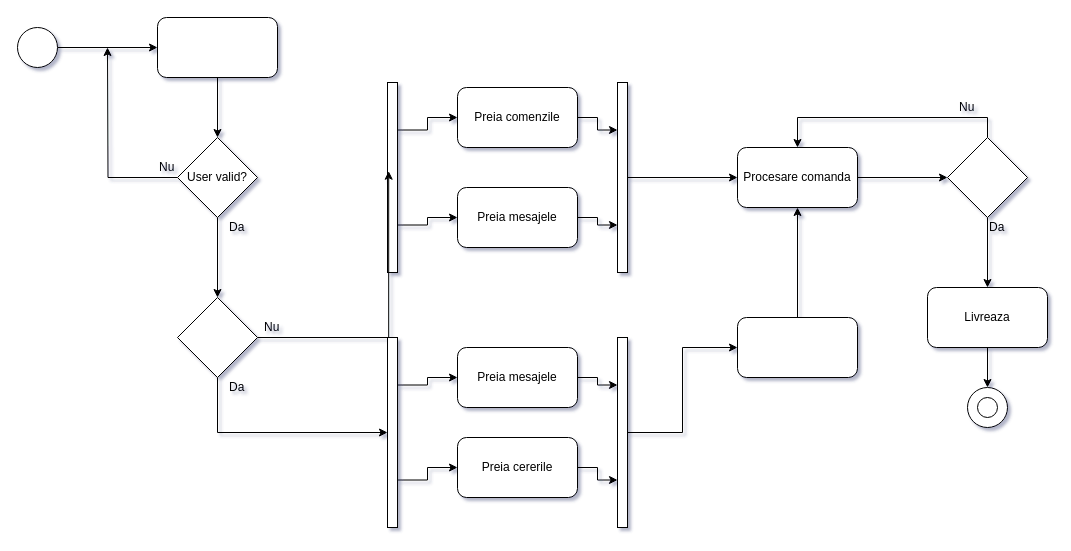
Some shapes in this 1071 by 551 pixel diagram are drawn without their labels. Each missing label, with the box of its shape:
Angajat?: (176, 296, 258, 378)
Coordoneaza personalul: (736, 316, 858, 378)
Finalizat?: (946, 136, 1028, 218)
Login: (156, 16, 278, 78)
